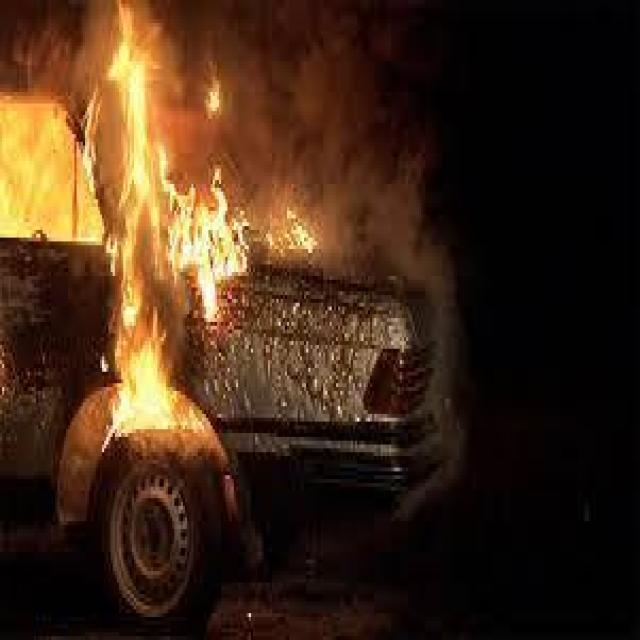fire: (0, 0, 315, 452)
